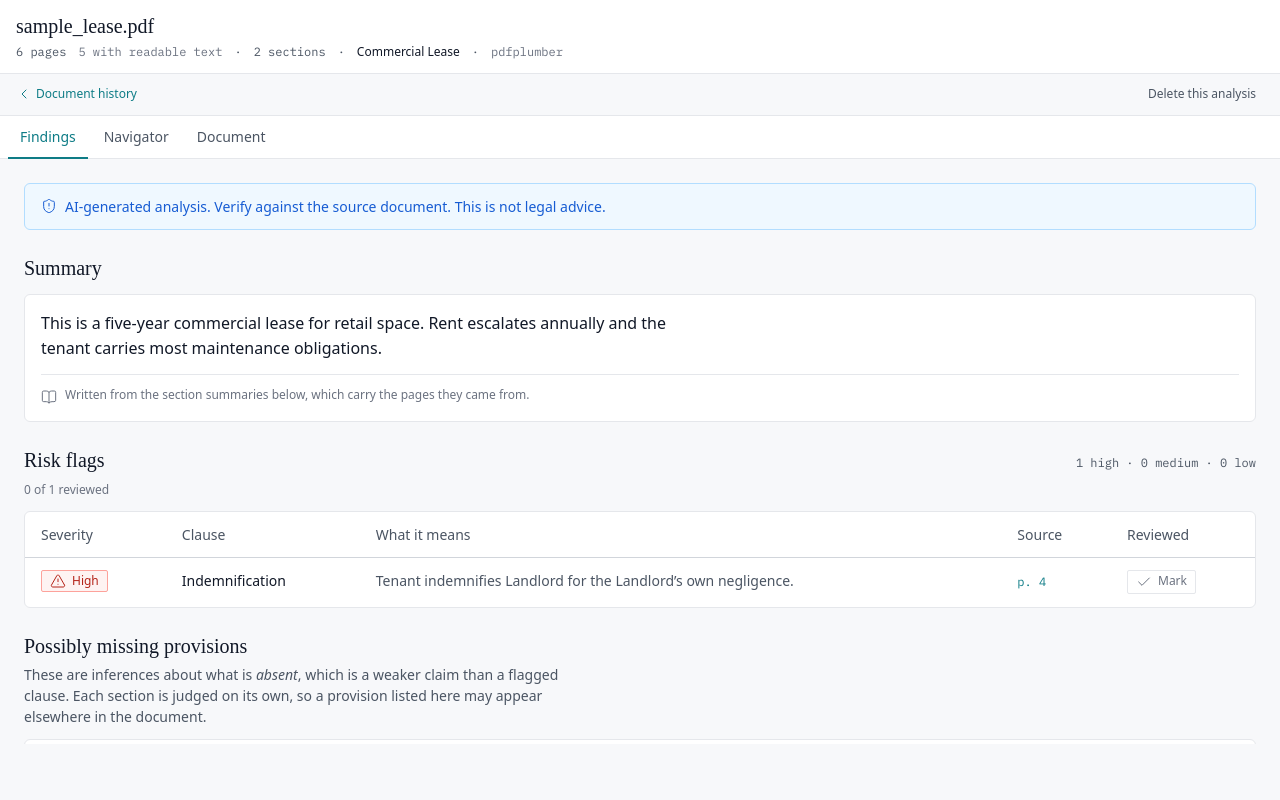
a stored analysis › stays put and keeps the findings when the delete fails
Step 1. Click the button "Delete this analysis" → (1202, 94), box [1140,82,1264,107]
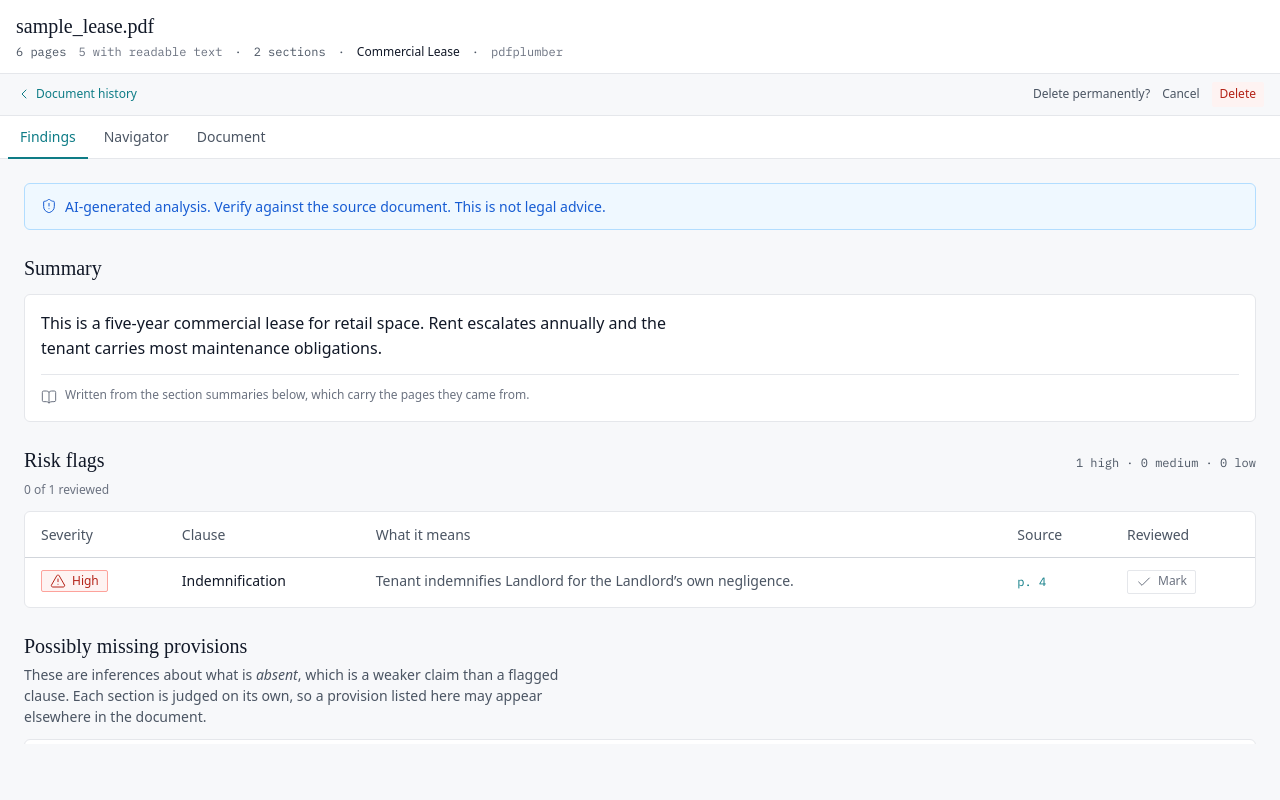
Step 2. Click the button "Delete" → (1238, 94), box [1212,82,1264,107]
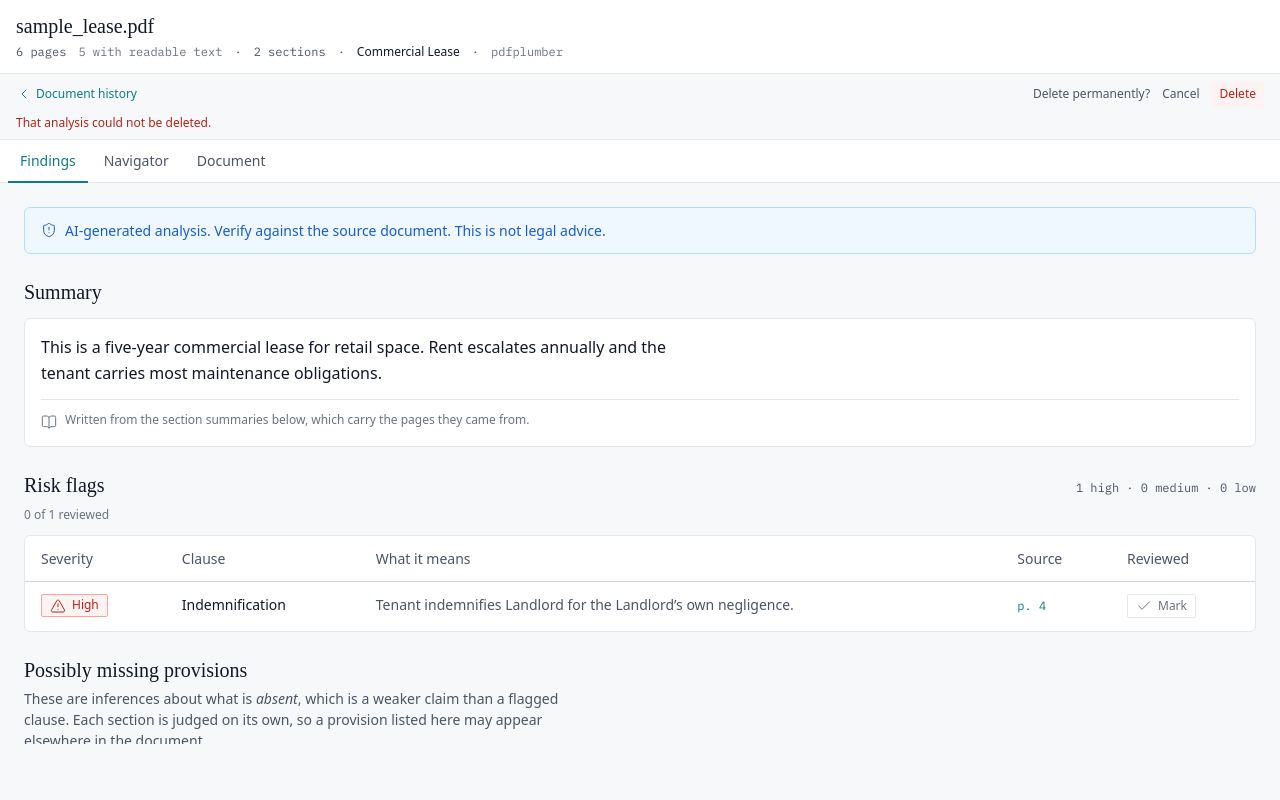
Check: the text "Indemnification" is shown, box [166,582,360,631]
Check: the message shows "could not be deleted", box [16,114,211,131]
